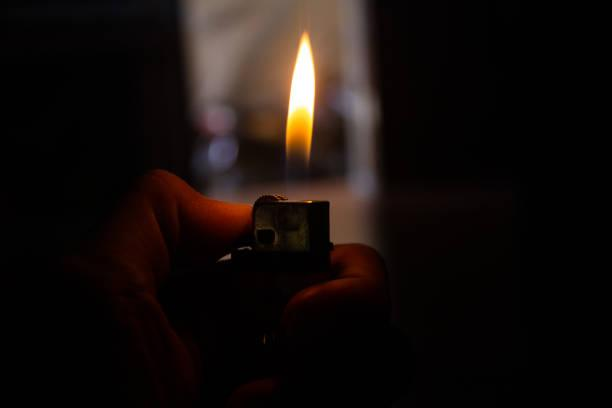Fire: (280, 29, 323, 200)
